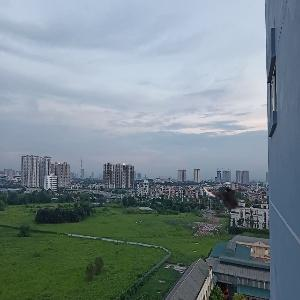drone: (195, 165, 256, 226)
